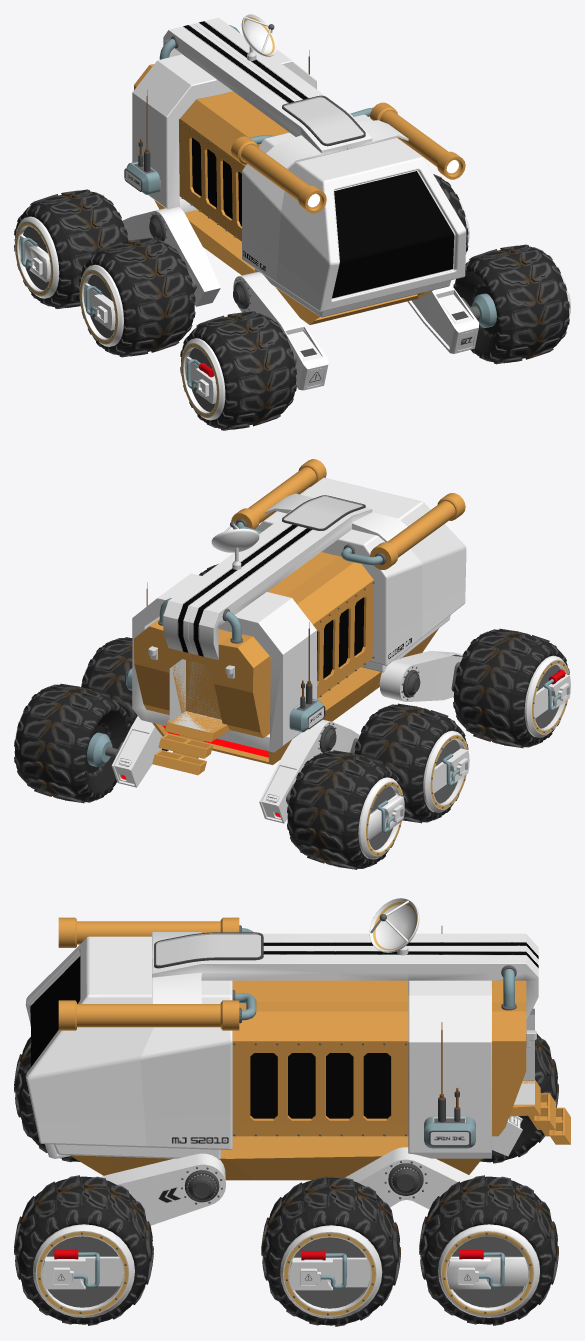
File: mars-rover.glb
3 renders of one model, top to bottom at view 1: azimuth 30°, elevation 25°; view 2: azimuth 150°, elevation 25°; view 3: azimuth 270°, elevation 25°, orthographic. The views are drawn at different scales.
Parts seen in each view (by area): view 1: Front Body, Wheel 1, Shell, Wheel 1.001, Inner Body, Axle/Suspension 1, Wheel 1.002, Circle.006, Circle, Base/Wheel hub, Rim 1.003, Rim 1.006 (+4 smaller); view 2: Shell, Inner Body, Wheel 1.002, Front Body, Wheel 1.001, Wheel 1, Circle, Circle.006, Axle/Suspension 1, Base/Wheel hub, Rim 1.001, Rim 1.003 (+5 smaller); view 3: Front Body, Inner Body, Shell, Wheel 1.002, Wheel 1, Wheel 1.001, Base/Wheel hub, Circle.006, Rim 1.003, Rim 1.006, Rim 1.001, Axle/Suspension 1 (+4 smaller).
Part boxes in pixels (box(x1,y1,x2,y2)): Front Body: box(242, 114, 466, 317); Wheel 1: box(180, 244, 569, 430); Shell: box(125, 17, 408, 212); Wheel 1.001: box(78, 174, 468, 357); Inner Body: box(134, 64, 289, 241); Axle/Suspension 1: box(233, 272, 480, 390); Wheel 1.002: box(14, 189, 128, 308); Circle.006: box(231, 102, 465, 213); Circle: box(122, 207, 220, 306); Base/Wheel hub: box(154, 200, 432, 324); Rim 1.003: box(79, 191, 469, 346); Rim 1.006: box(181, 264, 570, 420); Shell: box(126, 493, 407, 752); Inner Body: box(134, 552, 373, 775); Wheel 1.002: box(14, 684, 403, 869); Front Body: box(255, 477, 466, 672); Wheel 1.001: box(81, 637, 468, 823); Wheel 1: box(199, 564, 569, 748); Circle: box(105, 716, 359, 823); Circle.006: box(231, 459, 465, 569); Axle/Suspension 1: box(379, 651, 462, 701); Base/Wheel hub: box(152, 628, 438, 764); Rim 1.001: box(14, 712, 404, 859); Rim 1.003: box(81, 665, 469, 812); Front Body: box(25, 936, 232, 1159); Inner Body: box(232, 980, 570, 1144); Shell: box(152, 926, 538, 1158); Wheel 1.002: box(419, 1034, 558, 1325); Wheel 1: box(14, 1037, 153, 1325); Wheel 1.001: box(261, 1176, 400, 1326); Base/Wheel hub: box(70, 1136, 481, 1180); Circle.006: box(58, 917, 239, 1030); Rim 1.003: box(280, 1225, 382, 1318); Rim 1.006: box(33, 1224, 134, 1317); Rim 1.001: box(438, 1224, 539, 1317); Axle/Suspension 1: box(44, 1144, 225, 1225).
Size of the model in its own units: 7.08 by 5.12 by 7.69.
Materials: 24 (9 with a texture image).
